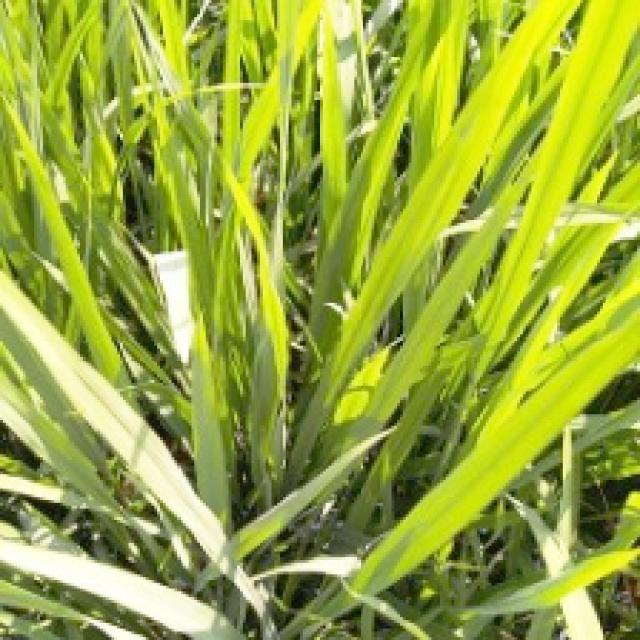health: (380, 0, 634, 497)
